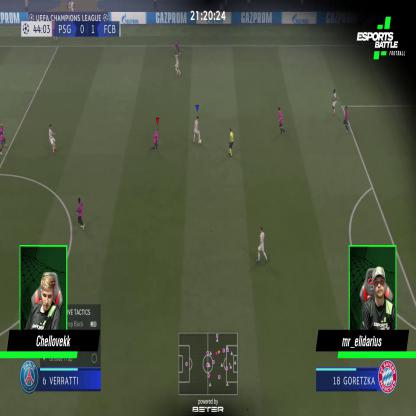ball: (198, 138, 202, 144)
